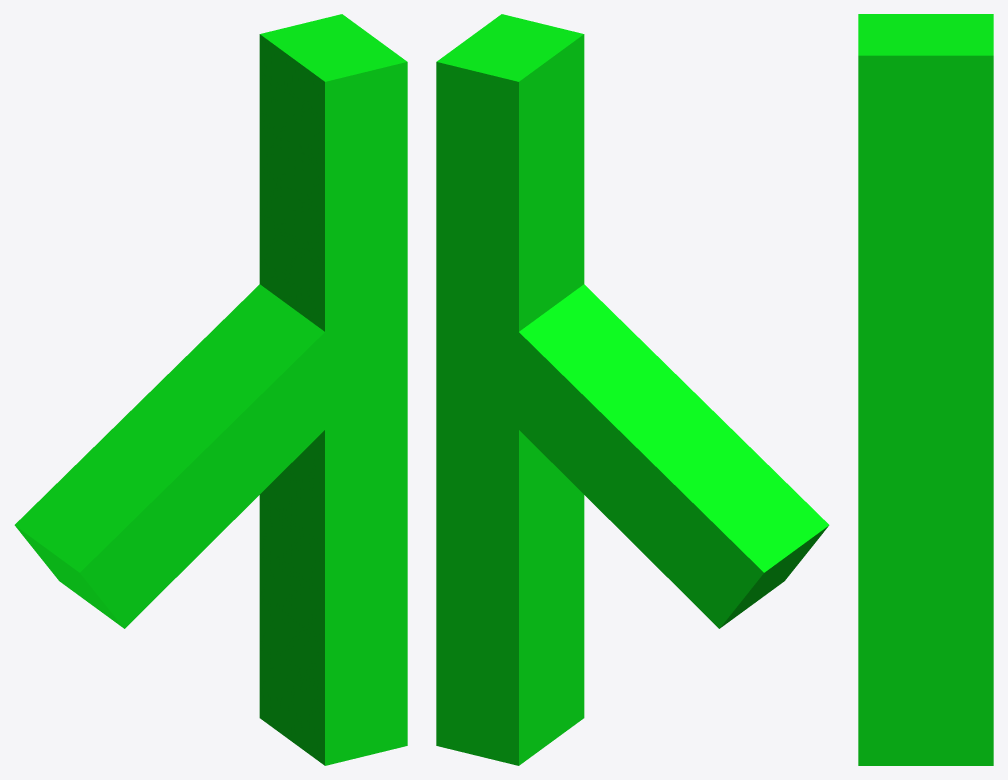
3 views of the same model, side by side, from view 1: azimuth 30°, elevation 25°; view 2: azimuth 150°, elevation 25°; view 3: azimuth 270°, elevation 25° (orthographic). The views are drawn at different scales.
Visible parts, largest first — view 1: EU; view 2: EU; view 3: EU.
Boxes of the visible parts, x1=… form: EU: x1=14, y1=14, x2=407, y2=765; EU: x1=436, y1=14, x2=829, y2=765; EU: x1=858, y1=14, x2=993, y2=765.
Bounding box in the file's own units: 0.2896 × 0.5777 × 0.1.
